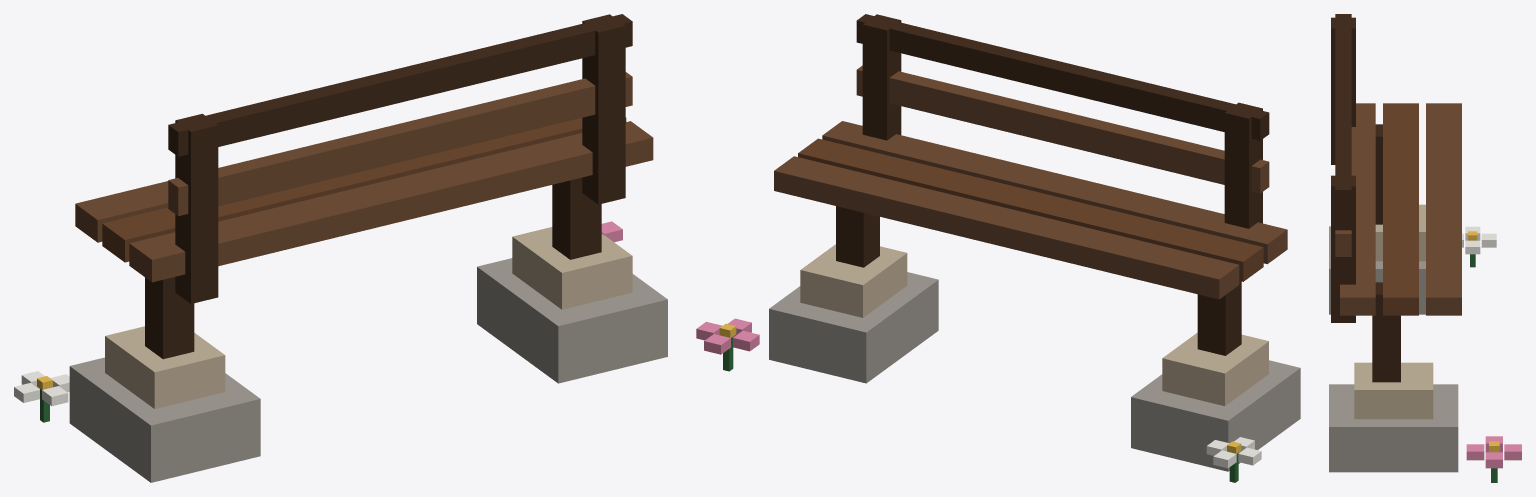
Rendered from vn_deco_rustic_bench.glb.
The picture shows the model from 3 angles, left to right: view 1: azimuth 30°, elevation 25°; view 2: azimuth 150°, elevation 25°; view 3: azimuth 270°, elevation 25°; orthographic projection. The views are drawn at different scales.
Parts seen in each view (by area): view 1: bench_wood, bench_stone; view 2: bench_wood, bench_stone; view 3: bench_wood, bench_stone.
Part boxes in pixels (x1,y1,x2,y2): bench_wood: [14, 14, 653, 422]; bench_stone: [69, 227, 667, 482]; bench_wood: [696, 14, 1287, 482]; bench_stone: [769, 244, 1300, 471]; bench_wood: [1331, 14, 1521, 482]; bench_stone: [1329, 204, 1458, 472].
Bounding box in the file's own units: 1.56 × 0.83 × 0.5369.
